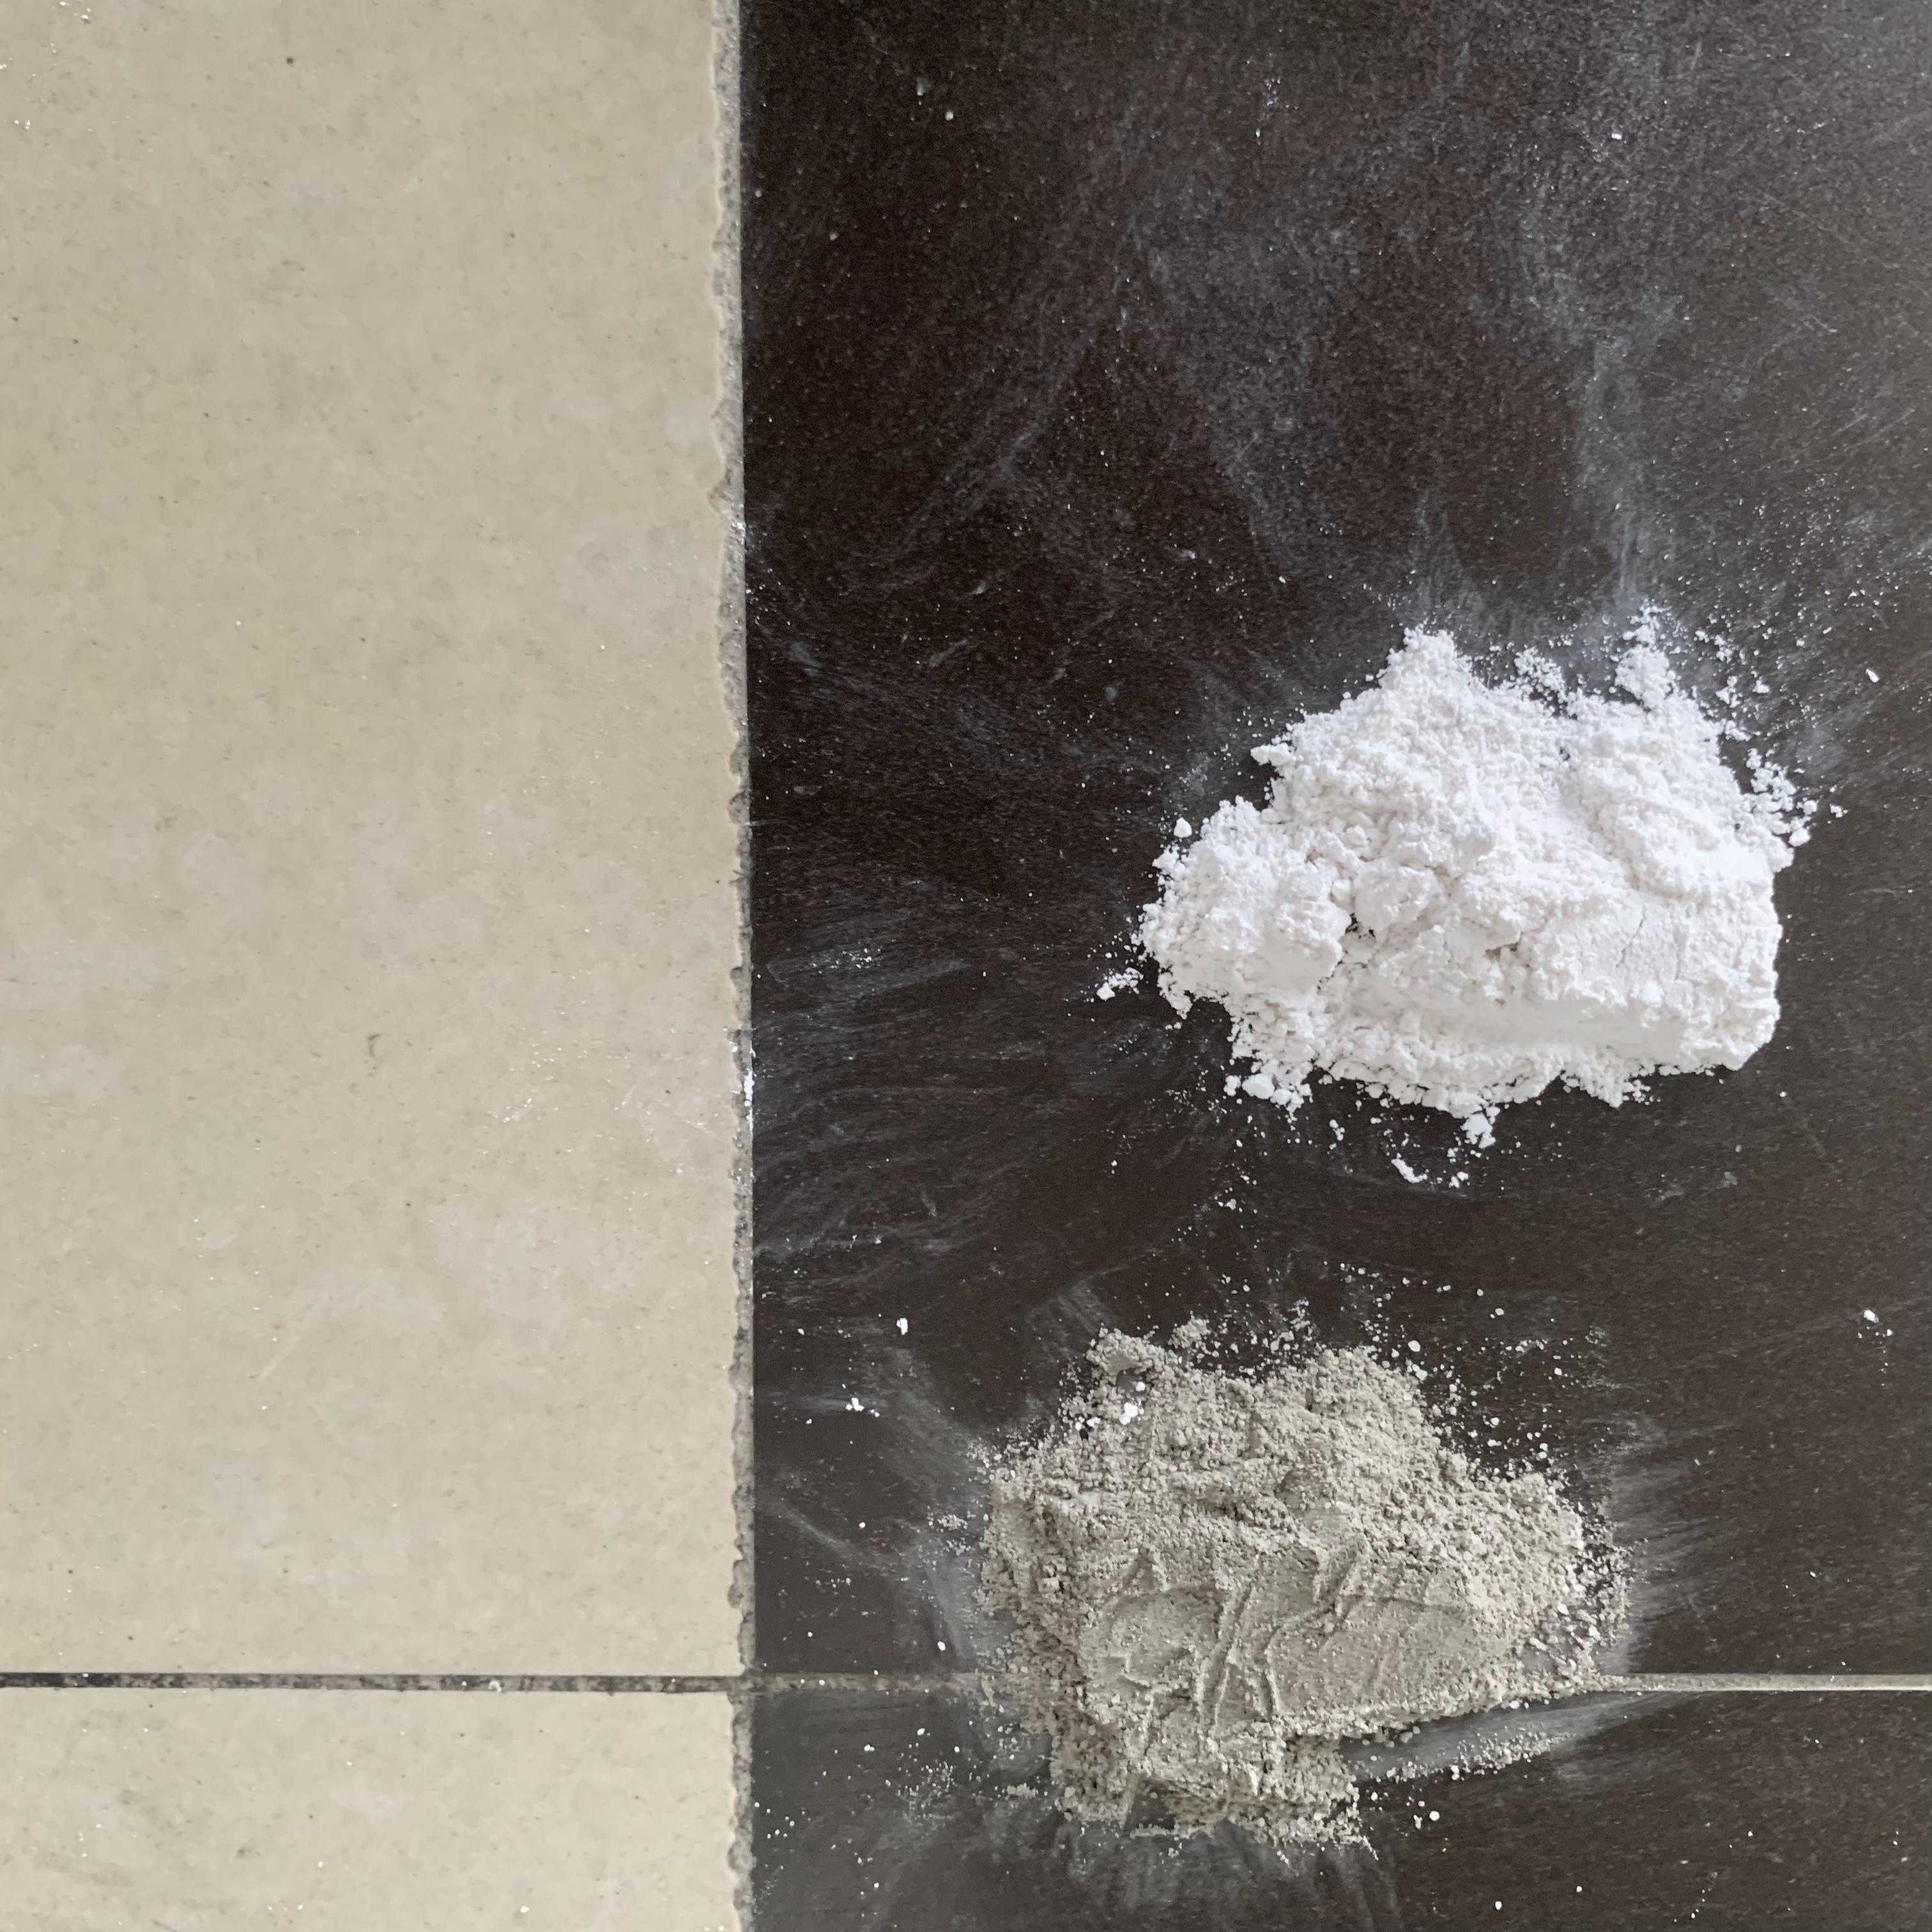ash pile: (904, 1281, 1695, 1909), (1090, 600, 1881, 1191)
